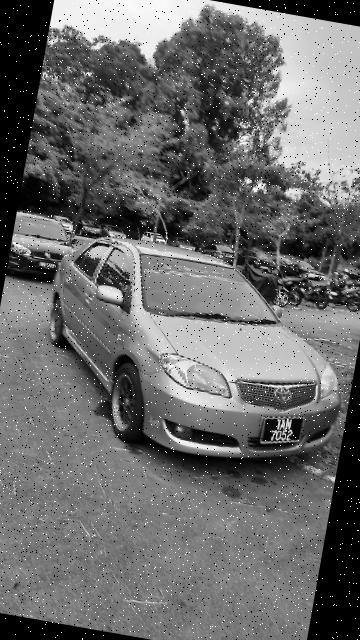License_Plate: (249, 407, 314, 456)
car: (28, 220, 360, 486)
